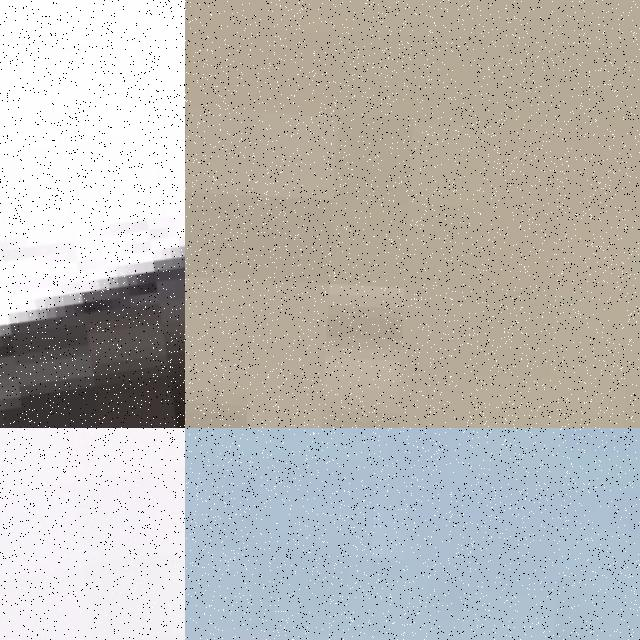drone: (0, 0, 185, 428), (0, 428, 185, 640)
